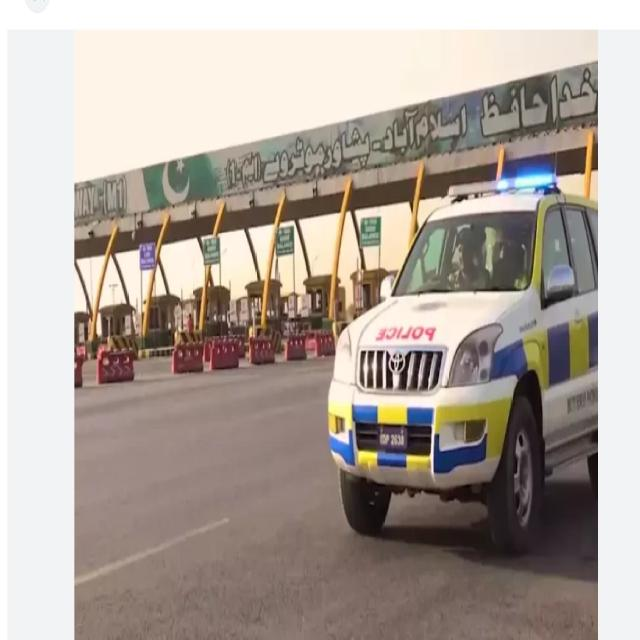police: (334, 174, 594, 531)
